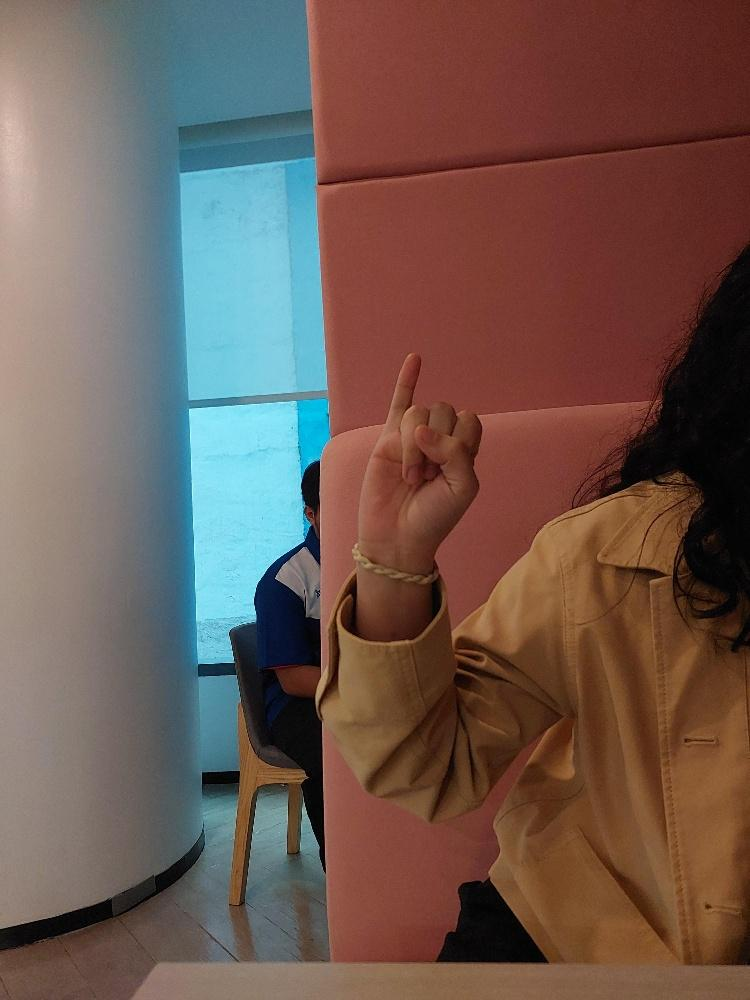i: (345, 340, 493, 572)
